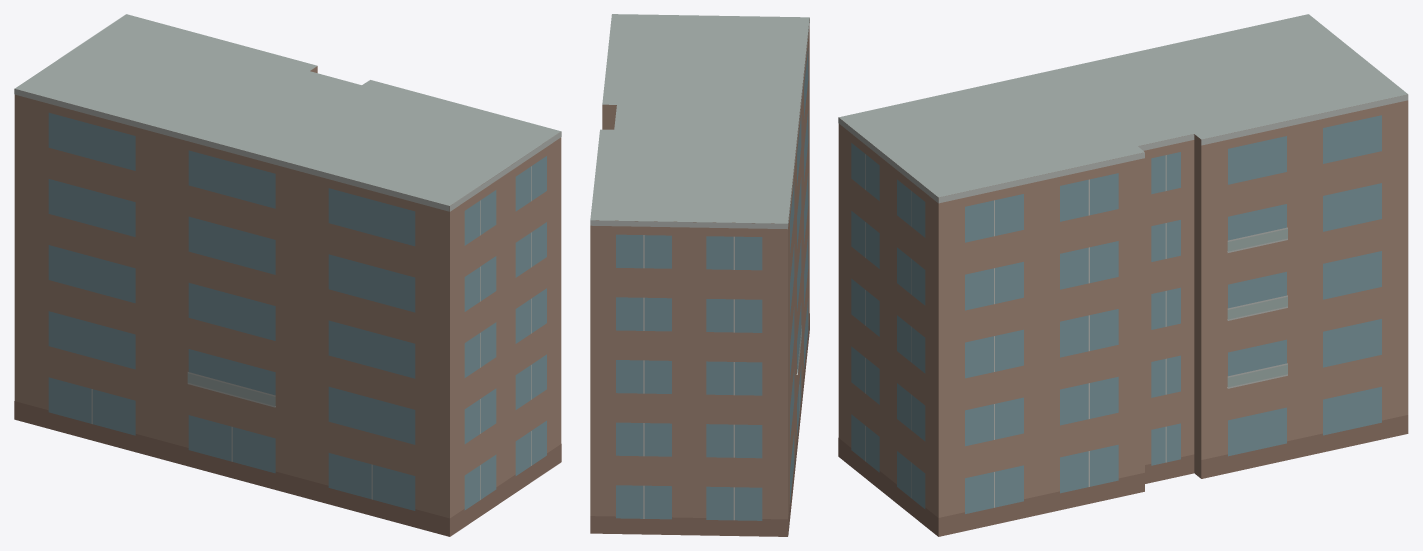
The model's file is survey-upis-32627005.glb.
3 views of the same model, side by side, from view 1: azimuth 30°, elevation 25°; view 2: azimuth 150°, elevation 25°; view 3: azimuth 270°, elevation 25° (orthographic). The views are drawn at different scales.
Visible parts, largest first — view 1: survey-upis-32627005.tmp; view 2: survey-upis-32627005.tmp; view 3: survey-upis-32627005.tmp.
Boxes of the visible parts, bbox=[...] form: survey-upis-32627005.tmp: bbox=[14, 14, 561, 536]; survey-upis-32627005.tmp: bbox=[590, 14, 809, 536]; survey-upis-32627005.tmp: bbox=[838, 14, 1408, 536].
Size of the model in its own units: 16.18 by 13.95 by 21.23.
